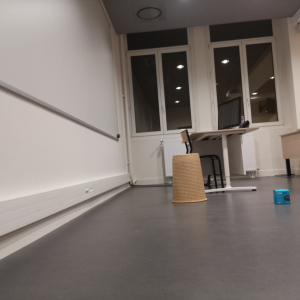medium: (170, 153, 206, 202)
small: (273, 189, 291, 206)
